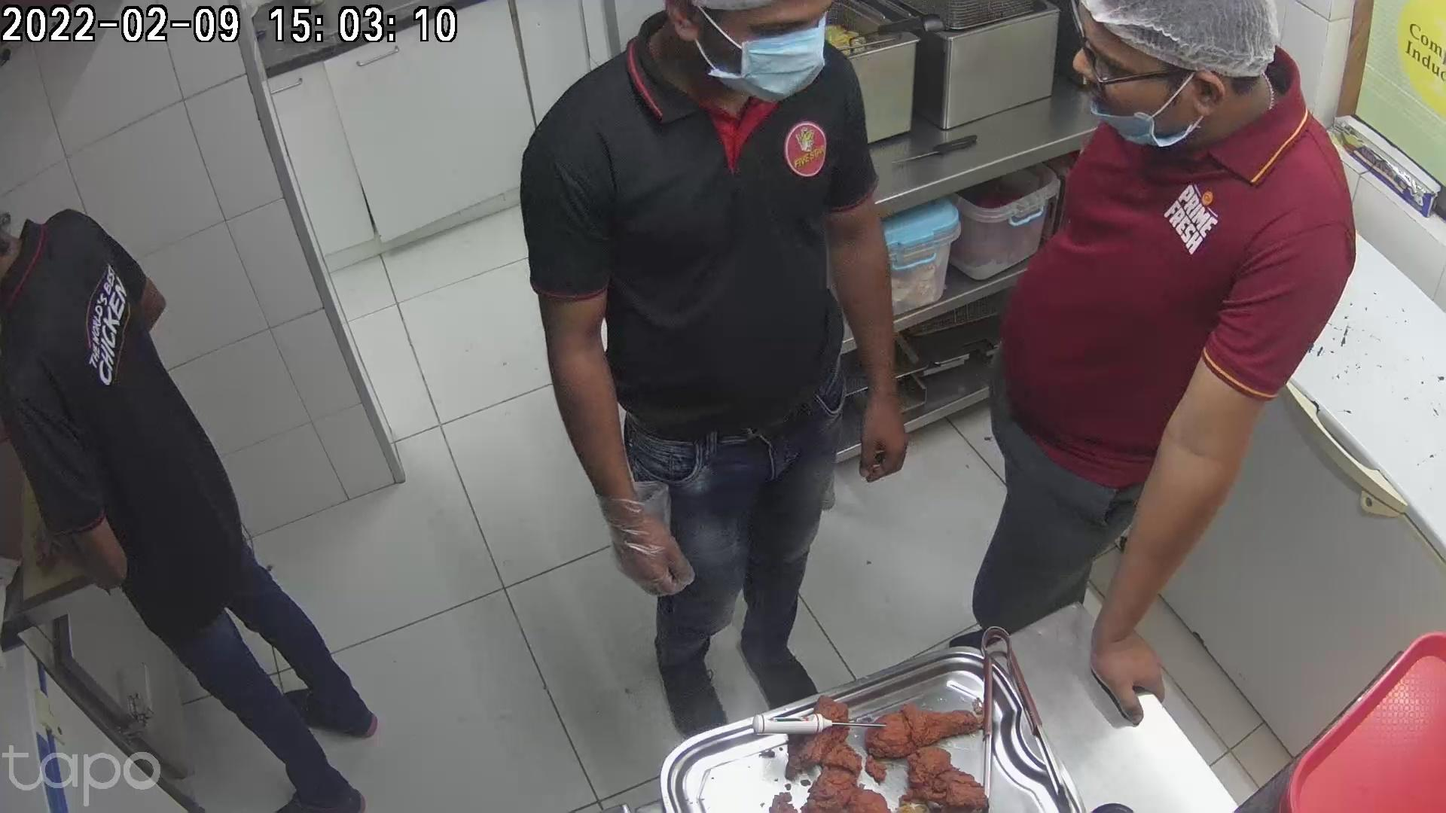no_gloves: (764, 310, 918, 387)
